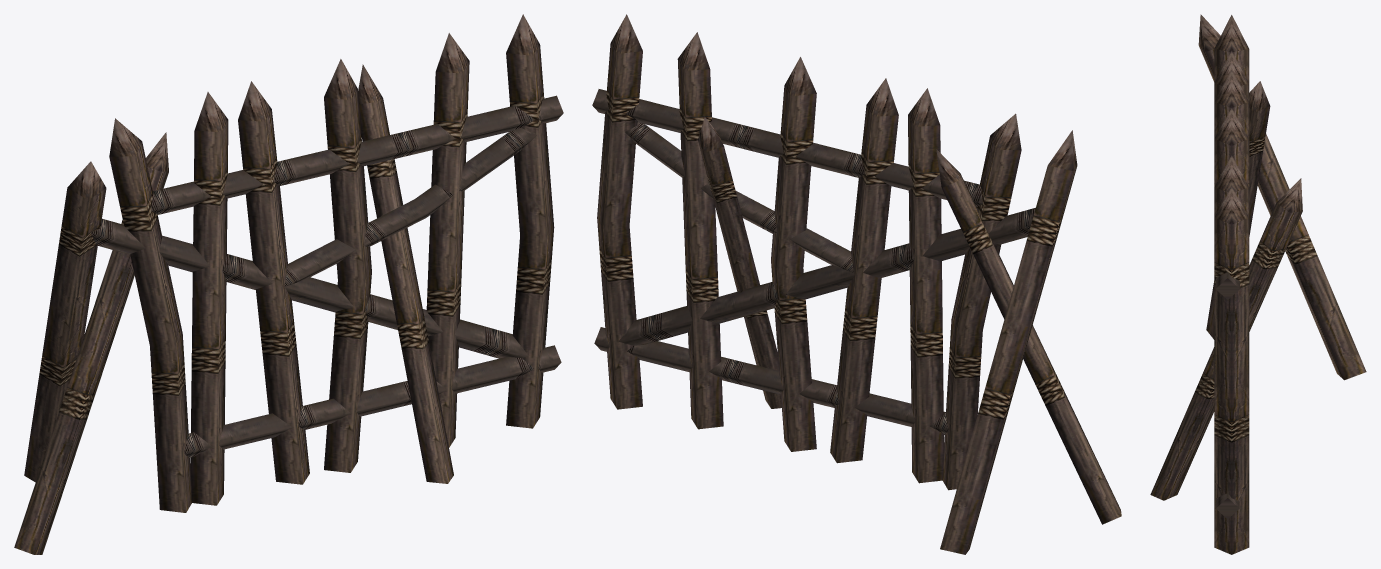
File: poweilan_yc_41.FBX
3 views of the same model, side by side, from view 1: azimuth 30°, elevation 25°; view 2: azimuth 150°, elevation 25°; view 3: azimuth 270°, elevation 25° (orthographic). The views are drawn at different scales.
Parts seen in each view (by area): view 1: poweilan_yc_41; view 2: poweilan_yc_41; view 3: poweilan_yc_41.
Boxes of the visible parts, box(x1,y1,x2,y2) form: poweilan_yc_41: box(14, 14, 563, 554); poweilan_yc_41: box(592, 14, 1121, 554); poweilan_yc_41: box(1150, 14, 1366, 554).
Size of what is drawn, in the model's own units: 461 by 336 by 179.
